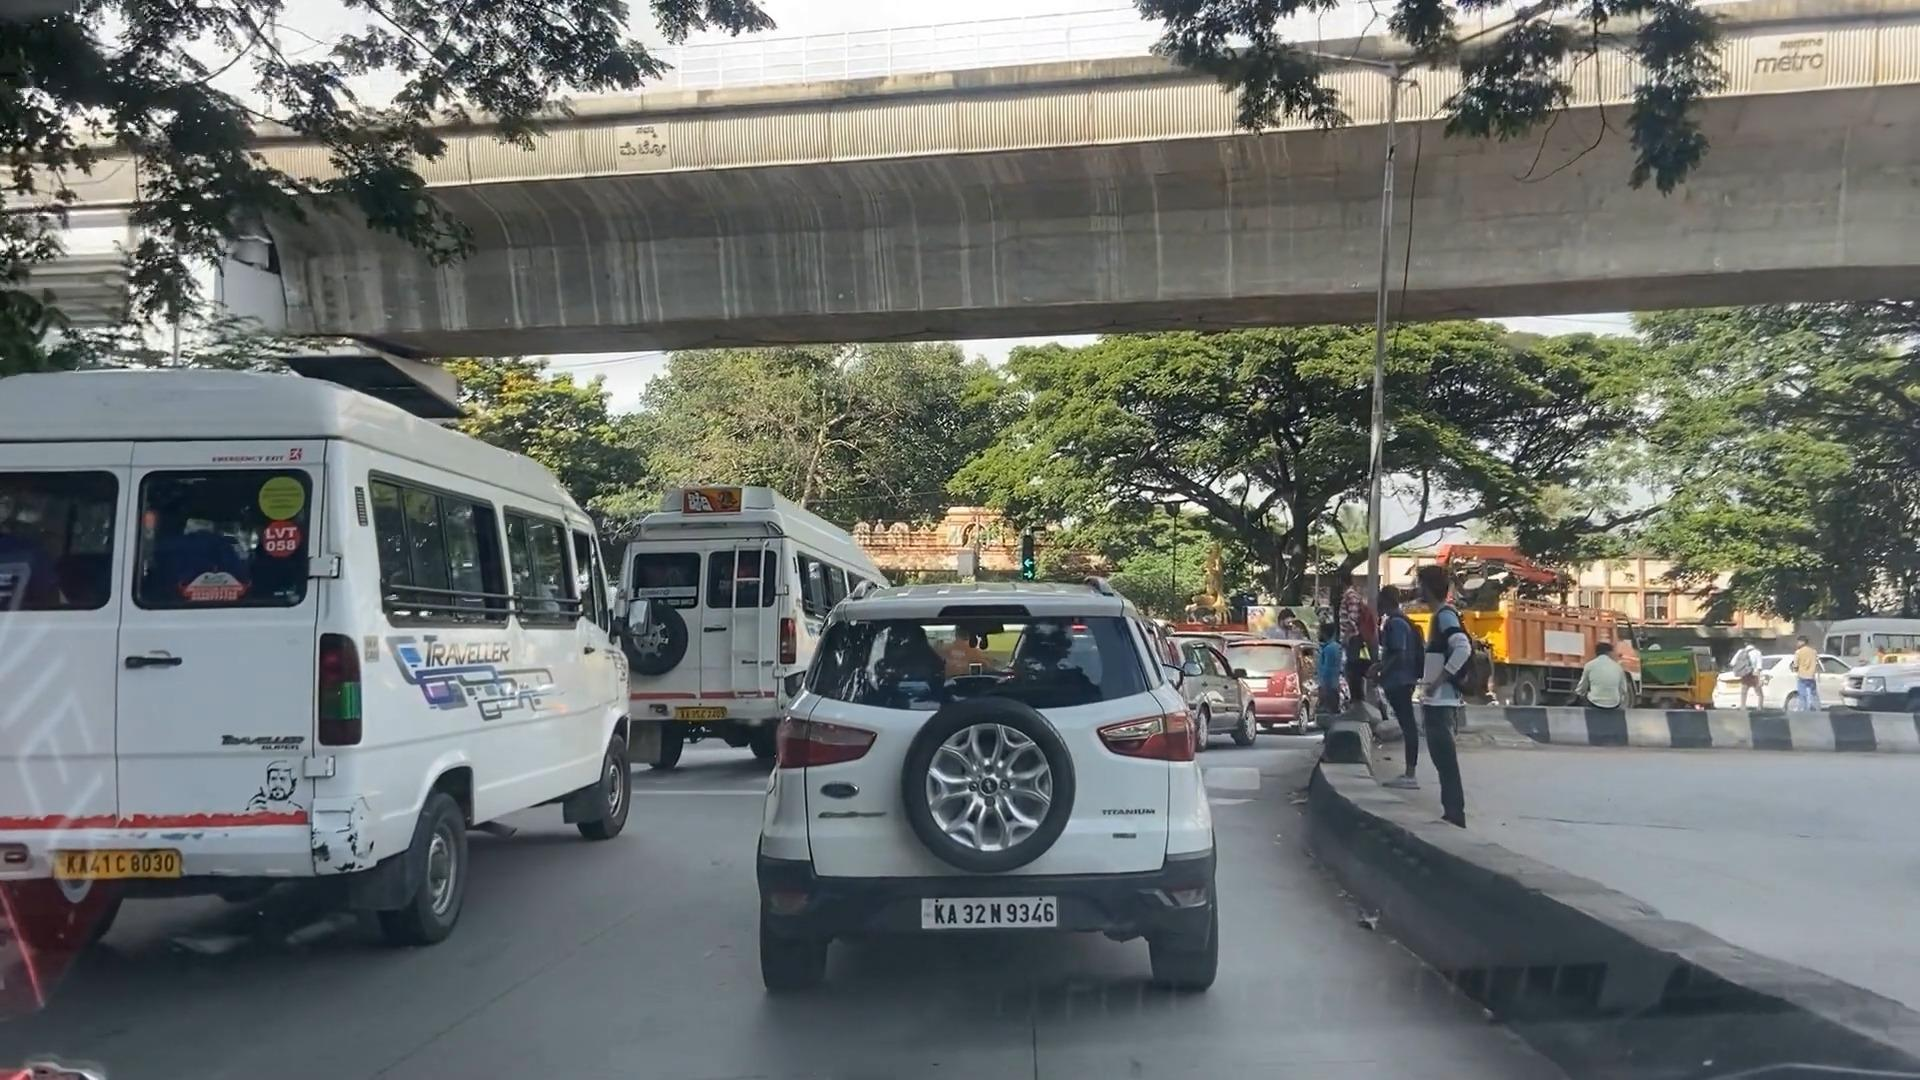HMV: (3, 385, 636, 990), (655, 493, 823, 724)
LMV: (803, 580, 1216, 1013)
